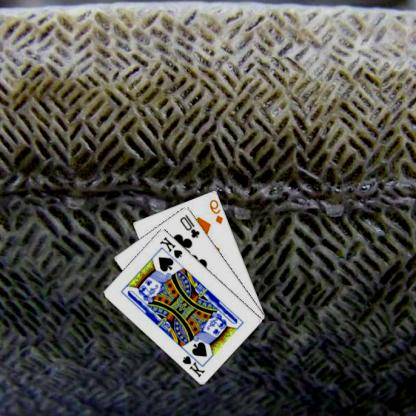10C: (179, 212, 203, 240)
9D: (209, 196, 226, 225)
KS: (181, 348, 208, 378), (159, 233, 185, 260)
